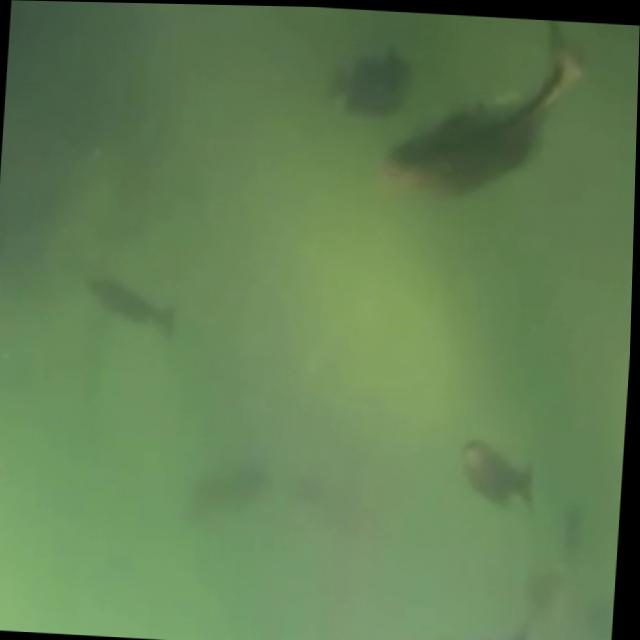fish: (371, 9, 605, 227), (295, 15, 433, 129), (447, 414, 561, 532), (81, 264, 196, 368), (421, 611, 552, 640)
